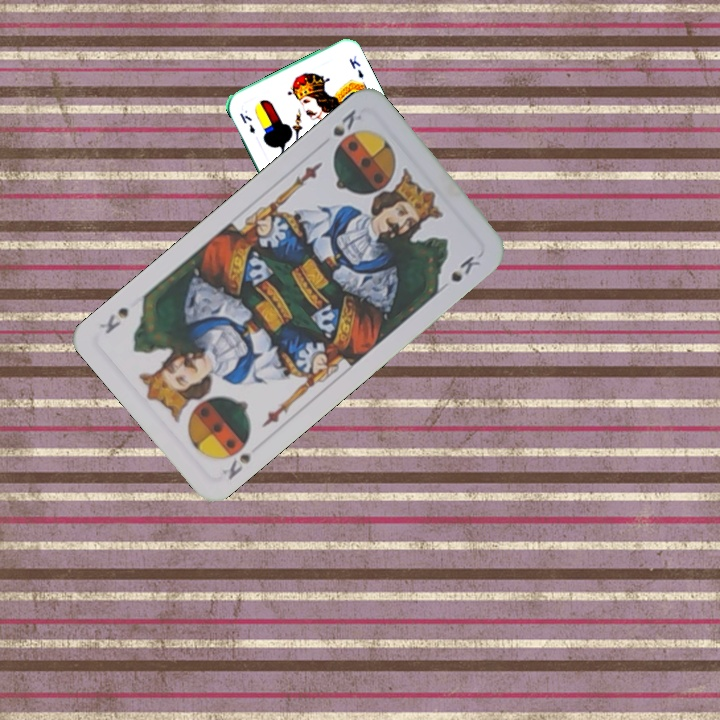EK: (236, 109, 258, 136)
SK: (214, 449, 255, 483), (328, 105, 365, 139)
